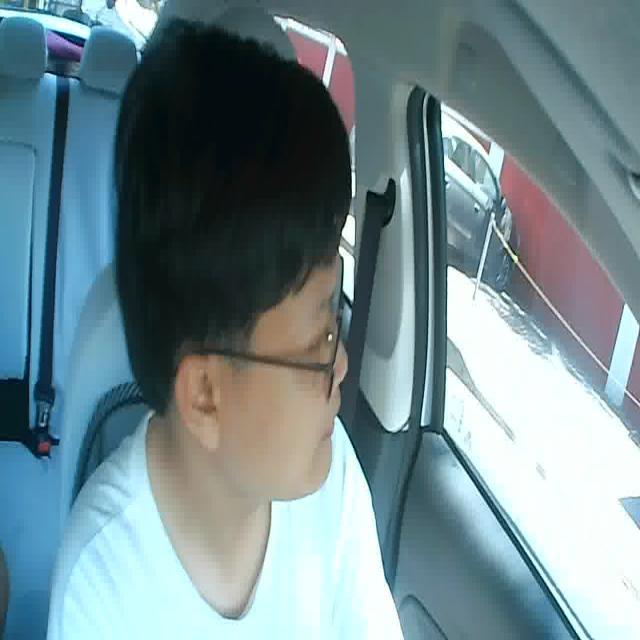Eye-Open: (302, 330, 328, 356), (326, 302, 343, 322)
Inattentive: (115, 19, 352, 501)
Normal: (312, 420, 335, 446)
